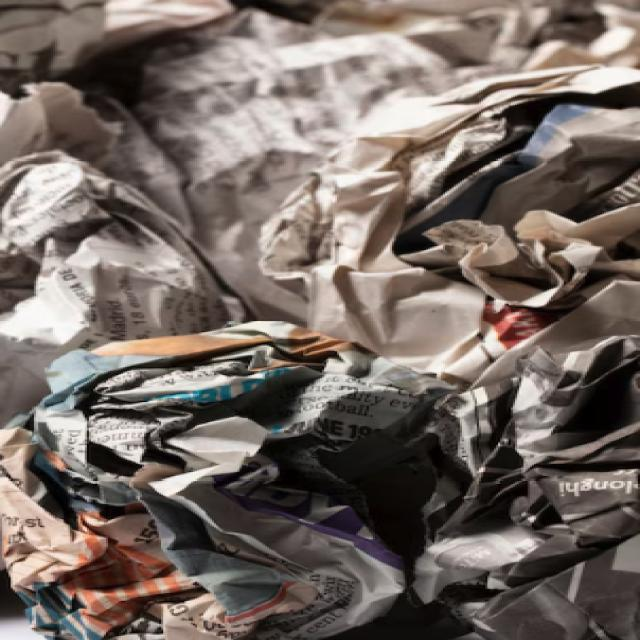Koran: (0, 0, 638, 639)
